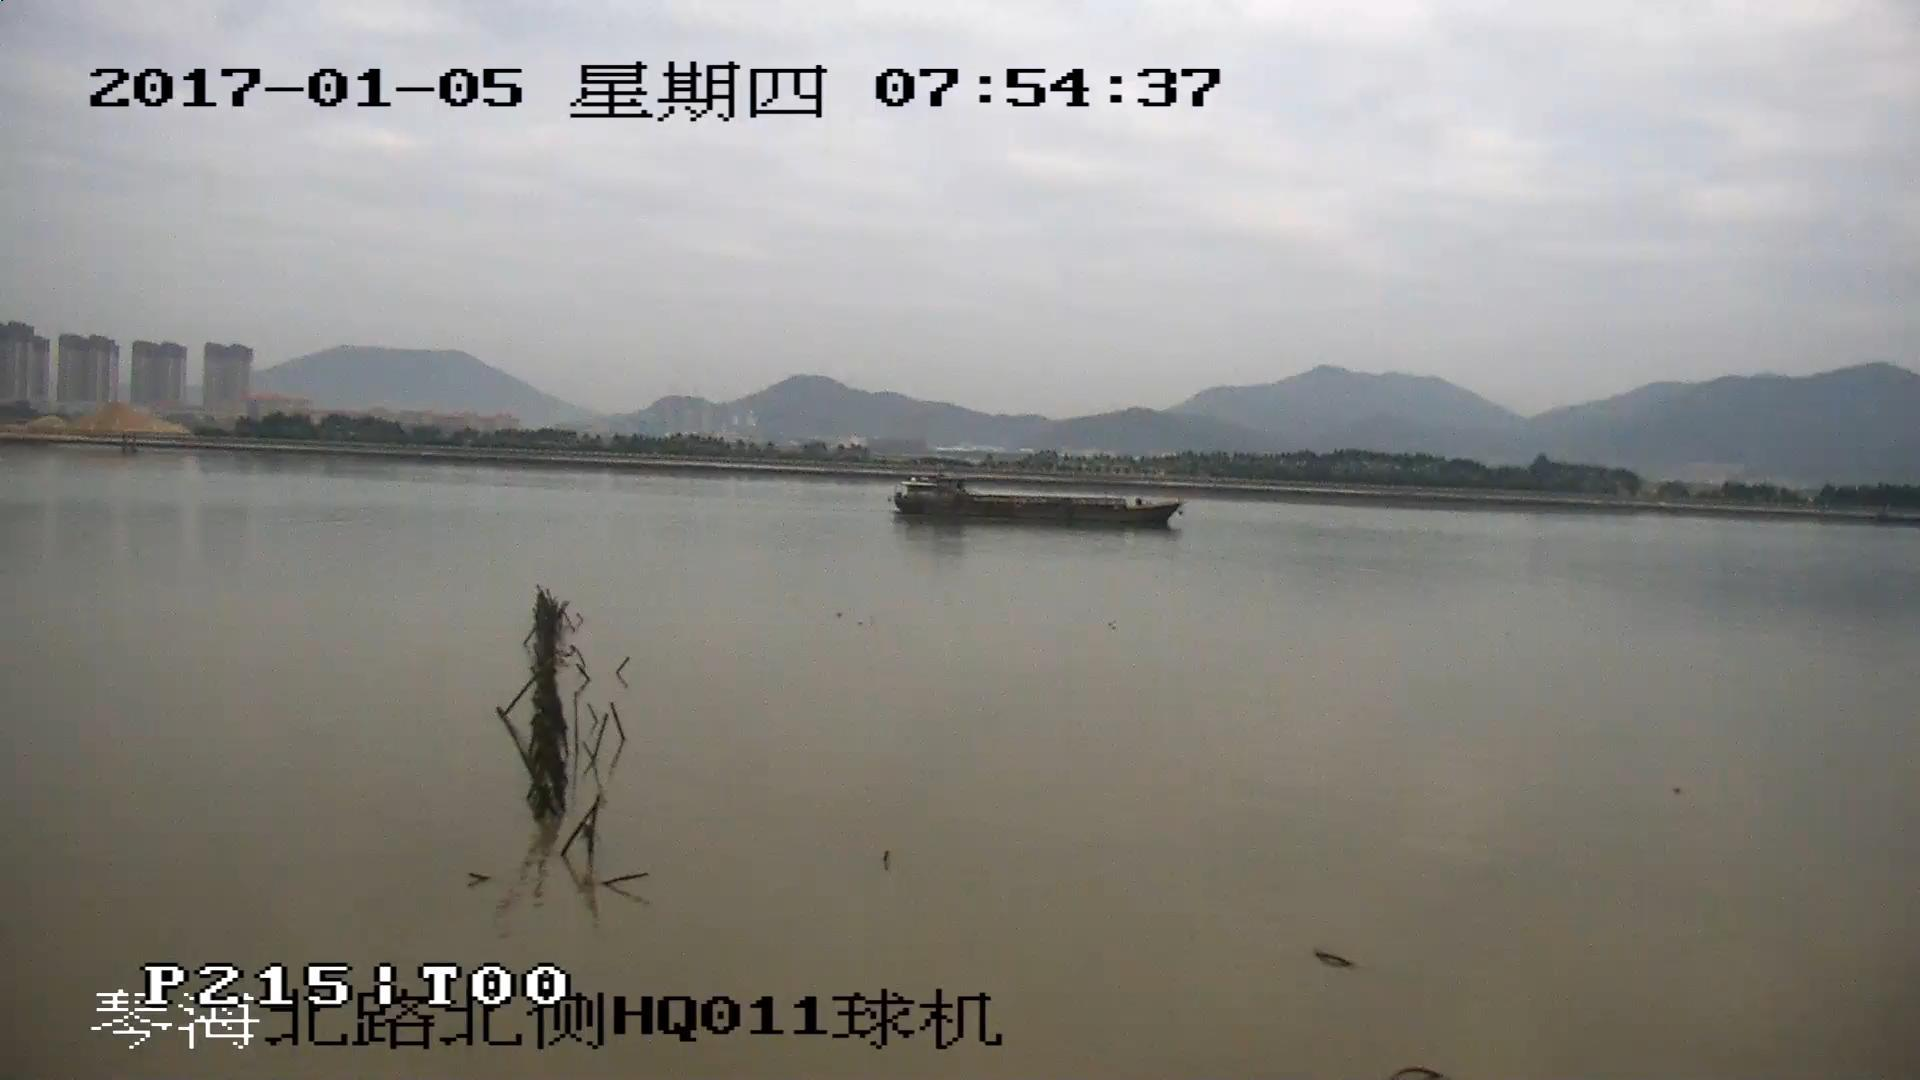Ship: (894, 477, 1185, 524)
